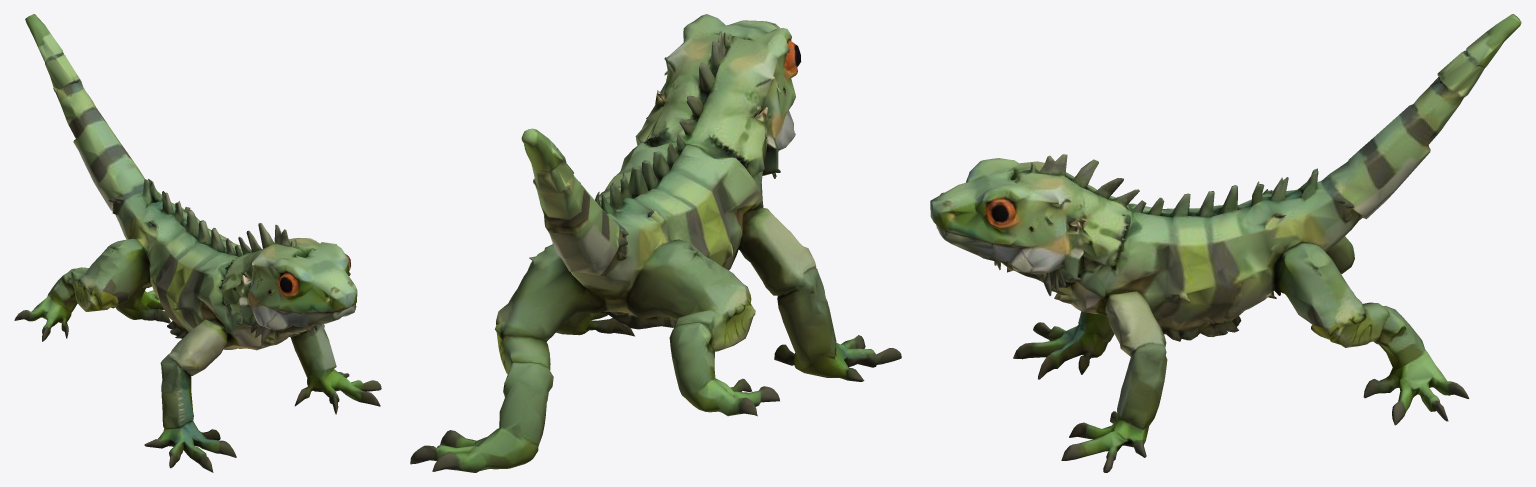
The model's file is iguana.glb.
The picture shows the model from 3 angles, left to right: view 1: azimuth 30°, elevation 25°; view 2: azimuth 150°, elevation 25°; view 3: azimuth 270°, elevation 25°; orthographic projection. The views are drawn at different scales.
Visible parts, largest first — view 1: tripo_node_3cf8d11e-9808-4436-8748-cb3a78ae089e; view 2: tripo_node_3cf8d11e-9808-4436-8748-cb3a78ae089e; view 3: tripo_node_3cf8d11e-9808-4436-8748-cb3a78ae089e.
Part boxes in pixels (x1,y1,x2,y2): tripo_node_3cf8d11e-9808-4436-8748-cb3a78ae089e: [14, 14, 381, 472]; tripo_node_3cf8d11e-9808-4436-8748-cb3a78ae089e: [410, 14, 901, 472]; tripo_node_3cf8d11e-9808-4436-8748-cb3a78ae089e: [930, 14, 1521, 472].
Size of the model in its own units: 0.6284 by 0.6734 by 0.9991.
Materials: 1 (1 with a texture image).
